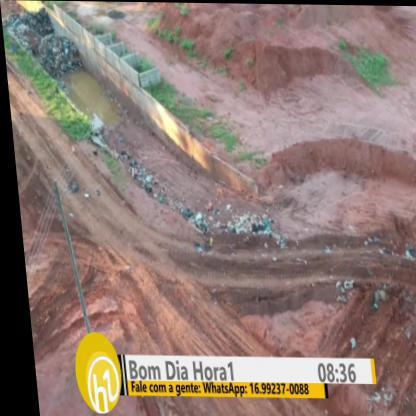agua: (68, 75, 103, 109)
lixo: (191, 199, 273, 243), (44, 41, 77, 74)
